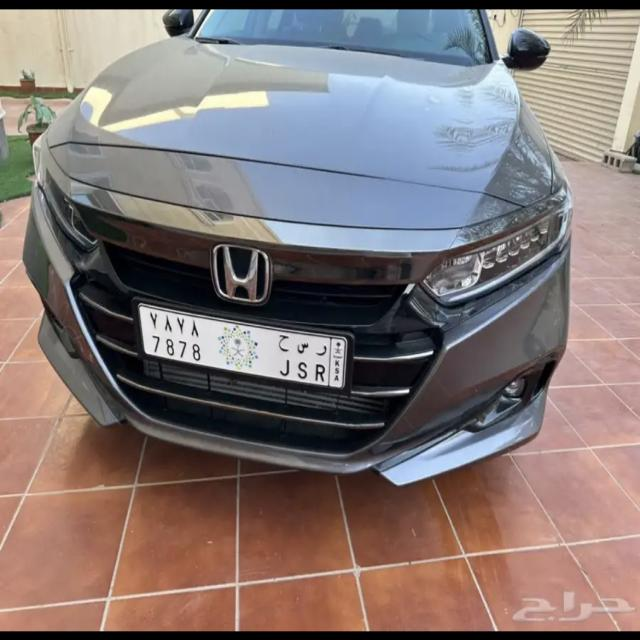license_plate: (134, 302, 348, 394)
